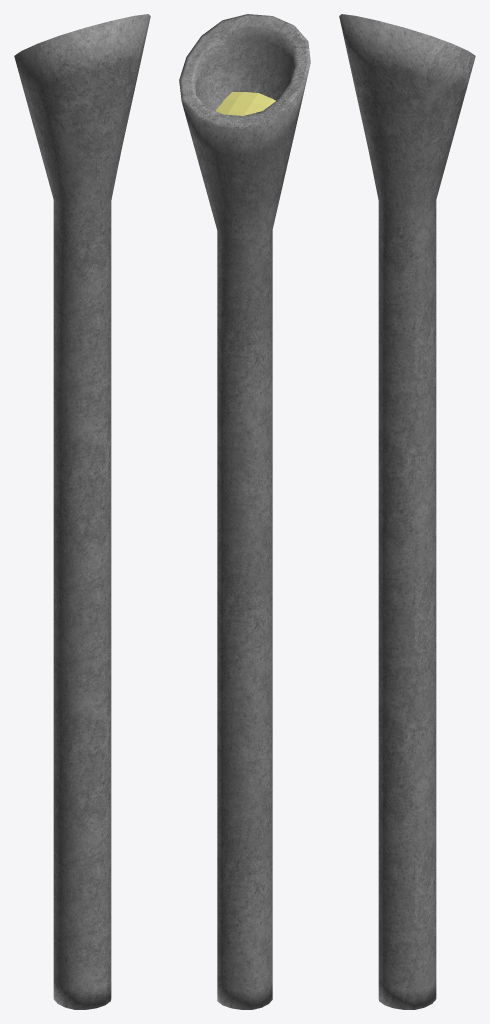
The model's file is spot-lamp.fbx.
The picture shows the model from 3 angles, left to right: view 1: azimuth 30°, elevation 25°; view 2: azimuth 150°, elevation 25°; view 3: azimuth 330°, elevation 25°; orthographic projection. The views are drawn at different scales.
Visible parts, largest first — view 1: Cube; view 2: Cube; view 3: Cube.
Part boxes in pixels (x1,y1,x2,y2): Cube: [14, 14, 150, 1009]; Cube: [179, 14, 310, 1009]; Cube: [339, 14, 475, 1009].
Bounding box in the file's own units: 0.1734 × 1.36 × 0.1424.
Materials: 2 (1 with a texture image).
